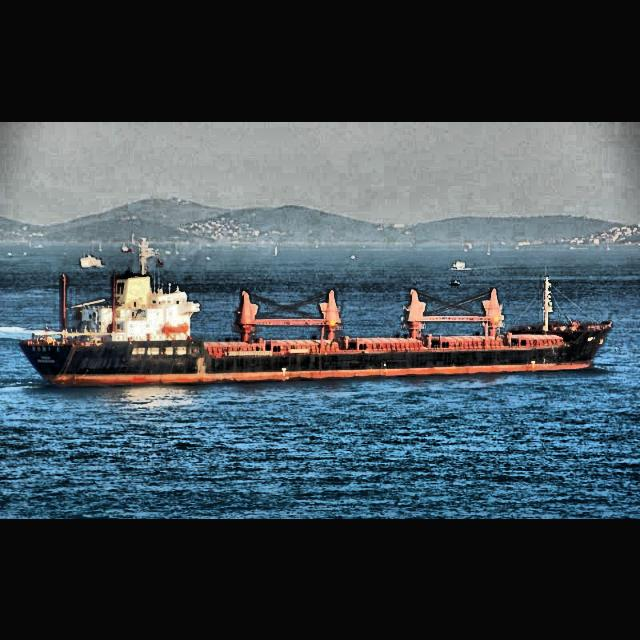bulk_carrier: (18, 234, 614, 388)
